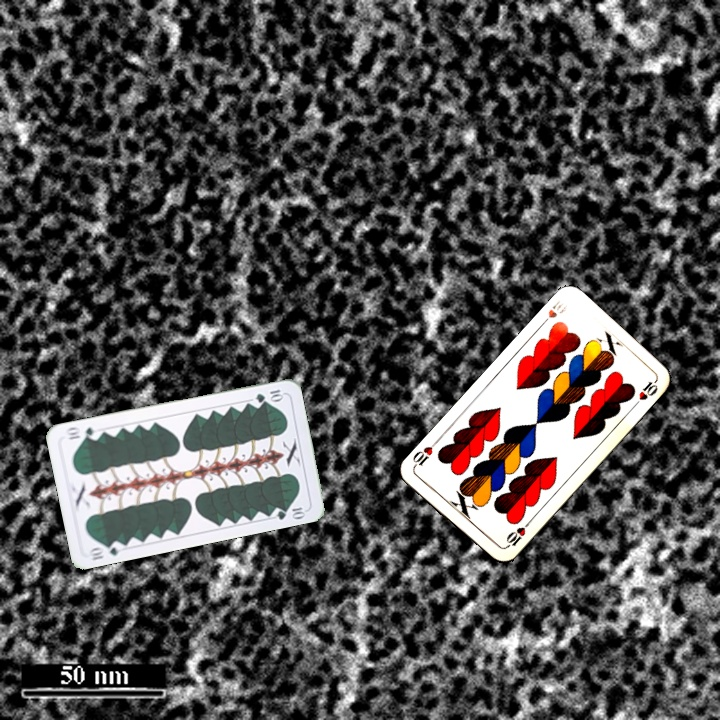G10: (84, 537, 126, 563), (251, 385, 286, 405)
H10: (501, 518, 532, 551), (536, 297, 564, 329)
